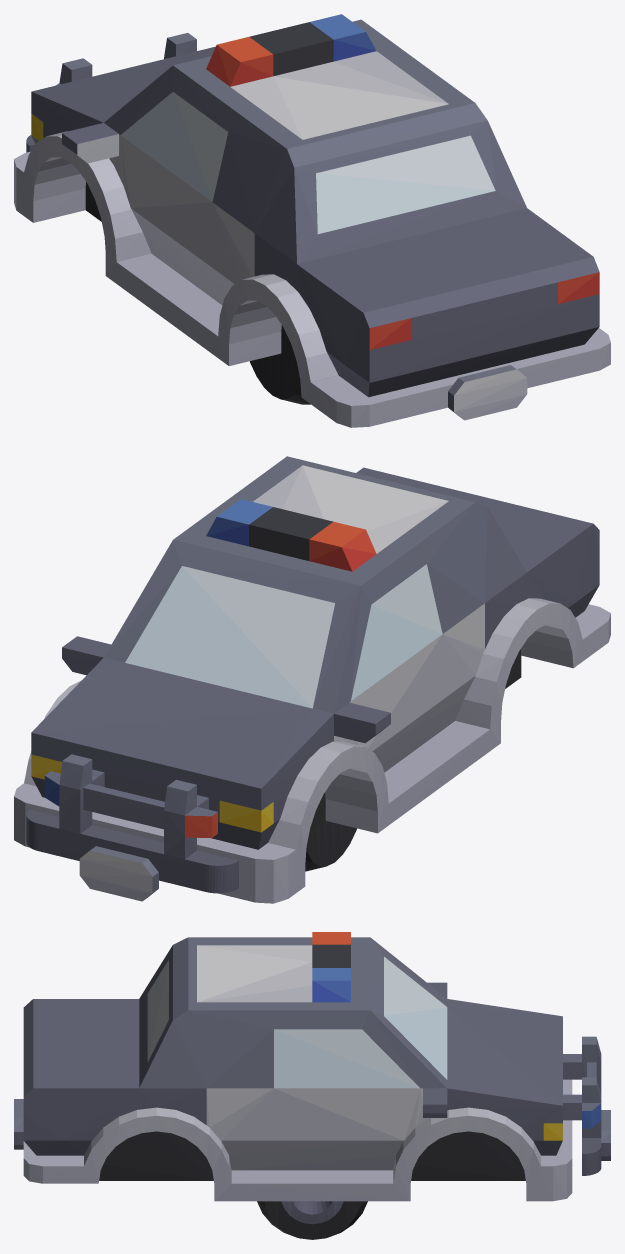
The model's file is police.glb.
The picture shows the model from 3 angles, top to bottom: view 1: azimuth 30°, elevation 25°; view 2: azimuth 150°, elevation 25°; view 3: azimuth 270°, elevation 25°; orthographic projection. The views are drawn at different scales.
Parts seen in each view (by area): view 1: trim, wheel; view 2: trim, wheel; view 3: trim, wheel.
Boxes of the visible parts, left/top/right/bottom form: trim: left=14, top=14, right=610, bottom=427; wheel: left=250, top=353, right=310, bottom=404; trim: left=14, top=456, right=610, bottom=903; wheel: left=305, top=820, right=356, bottom=871; trim: left=14, top=932, right=610, bottom=1201; wheel: left=257, top=1201, right=367, bottom=1239.
Bounding box in the file's own units: 1.5 × 1.6 × 3.1.
